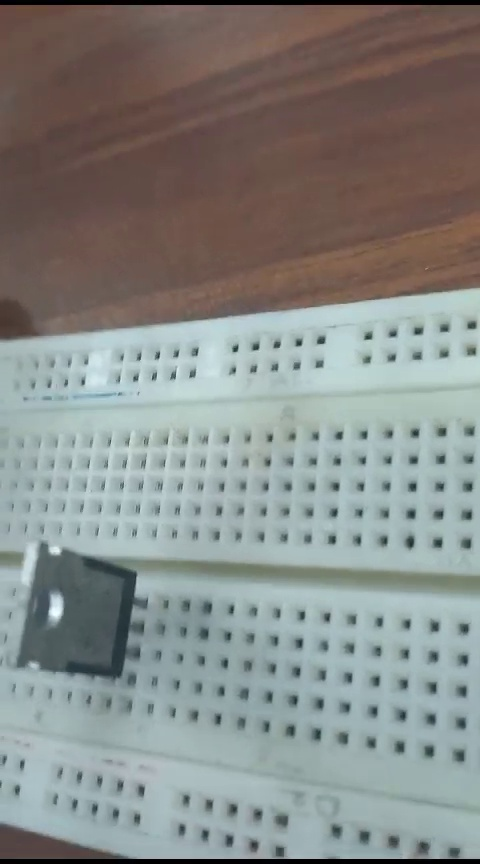voltage regulator: (21, 539, 158, 691)
